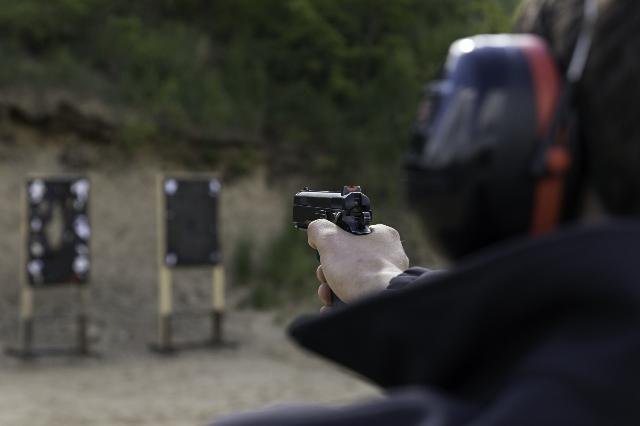handgun: (290, 178, 374, 322)
